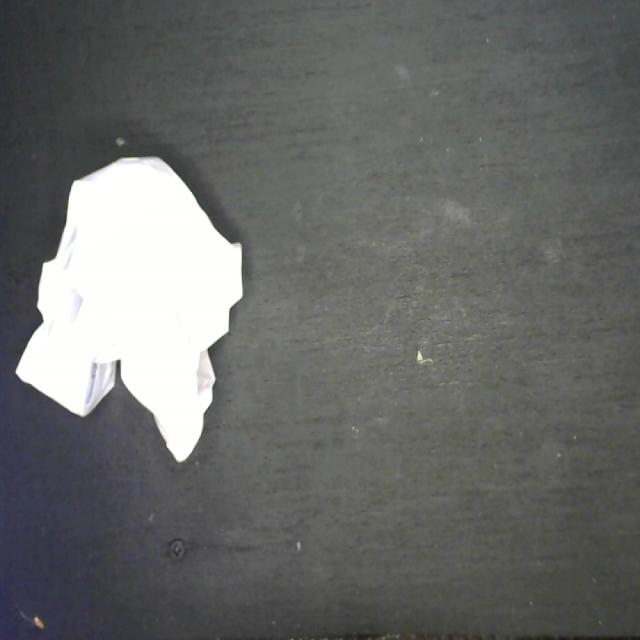biodegradable: (12, 154, 243, 466)
